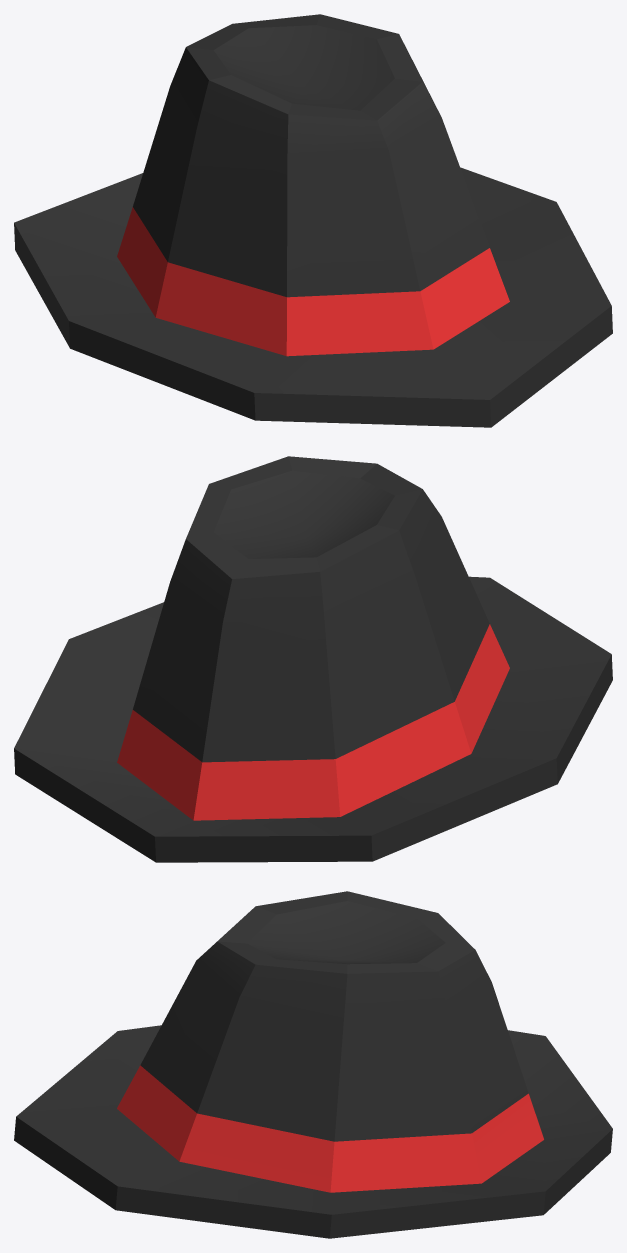
Rendered from Fedora_Noir.fbx.
The picture shows the model from 3 angles, top to bottom: view 1: azimuth 30°, elevation 25°; view 2: azimuth 150°, elevation 25°; view 3: azimuth 270°, elevation 25°; orthographic projection. The views are drawn at different scales.
Visible parts, largest first — view 1: Hat_Noir; view 2: Hat_Noir; view 3: Hat_Noir.
Boxes of the visible parts, <box> form: Hat_Noir: <box>14,14,612,427</box>; Hat_Noir: <box>14,456,612,862</box>; Hat_Noir: <box>14,891,612,1238</box>.
Size of the model in its own units: 38.38 by 18.79 by 45.84.
